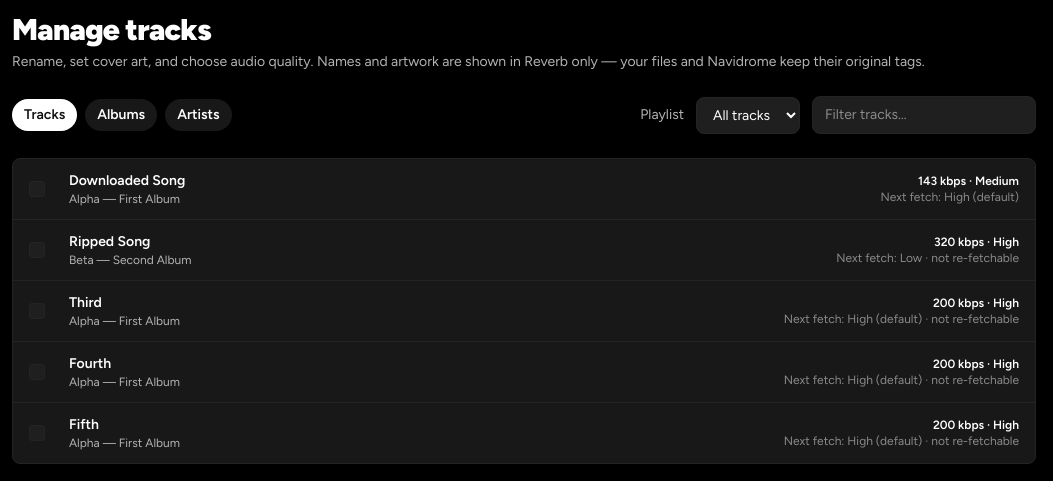
Test: ManageTracks › playlist filter › narrows the track list to the playlist, ignoring entries not in the library
Select "Road trip" in the dropdown labelled "Playlist" at (748, 115), box [696,96,800,134]
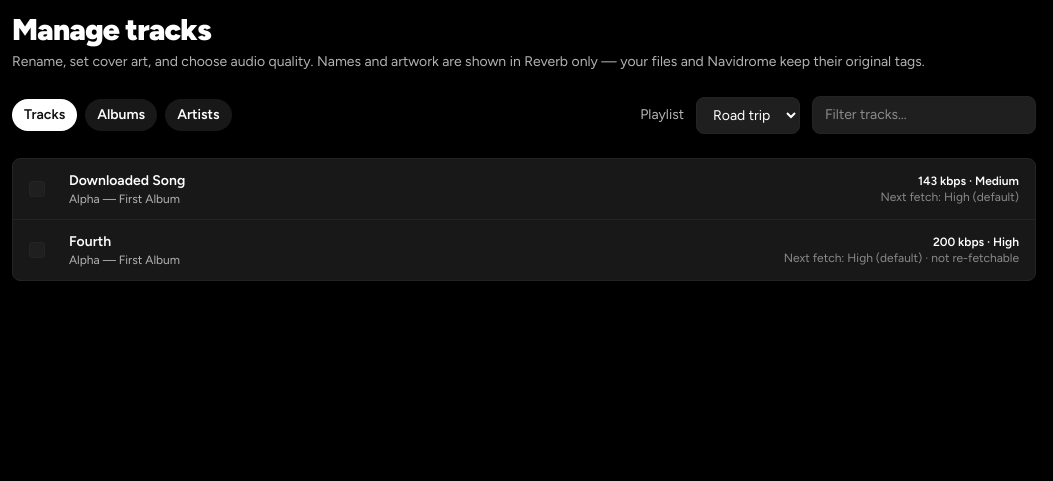
Expected: the text "Downloaded Song" is shown, [69,172,185,189]
Expected: the text "Ripped Song" is gone
